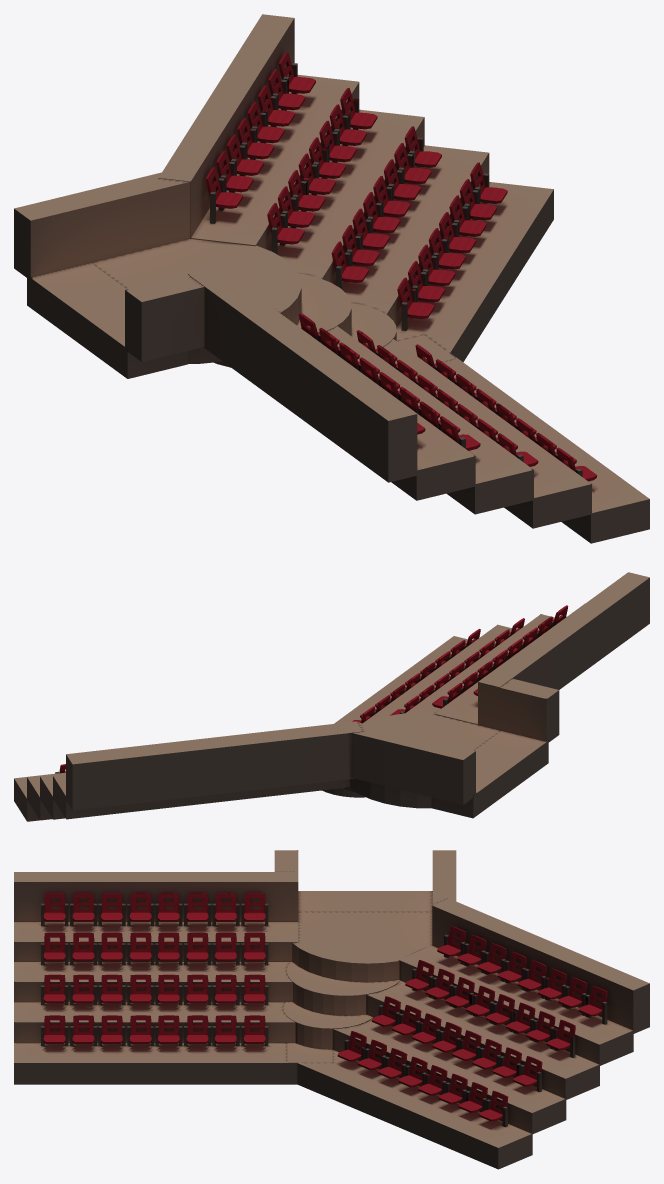
File: cornerseats1.dae
3 views of the same model, one above another, from view 1: azimuth 30°, elevation 25°; view 2: azimuth 150°, elevation 25°; view 3: azimuth 270°, elevation 25° (orthographic). The views are drawn at different scales.
Visible parts, largest first — view 1: seats1_262; view 2: seats1_262; view 3: seats1_262.
Part boxes in pixels (x1,y1,x2,y2): seats1_262: (14,14,649,543); seats1_262: (14,572,649,821); seats1_262: (14,850,649,1169).
Bounding box in the file's own units: 39.42 × 53.69 × 11.37.
1 material, 1 textured.
